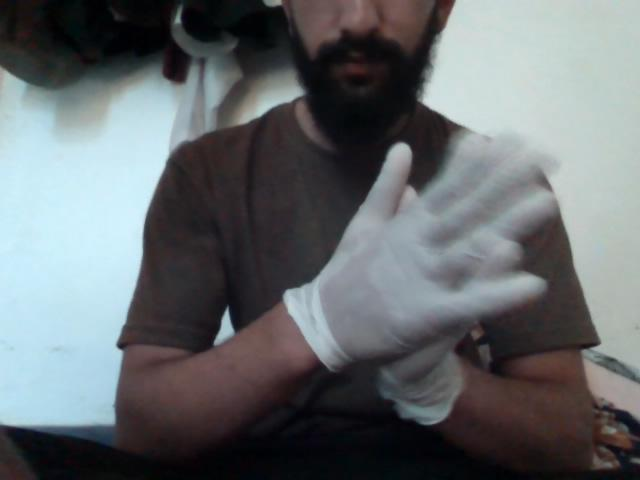gloves: (224, 106, 594, 403)
